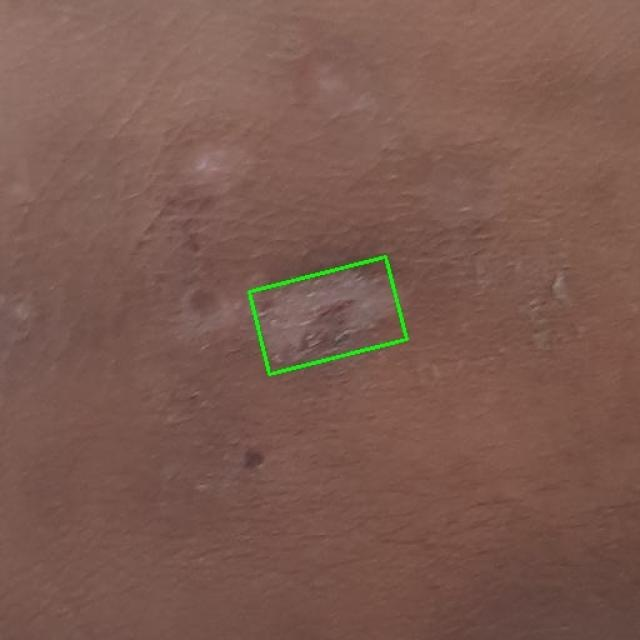Eczema: (249, 257, 406, 374)
